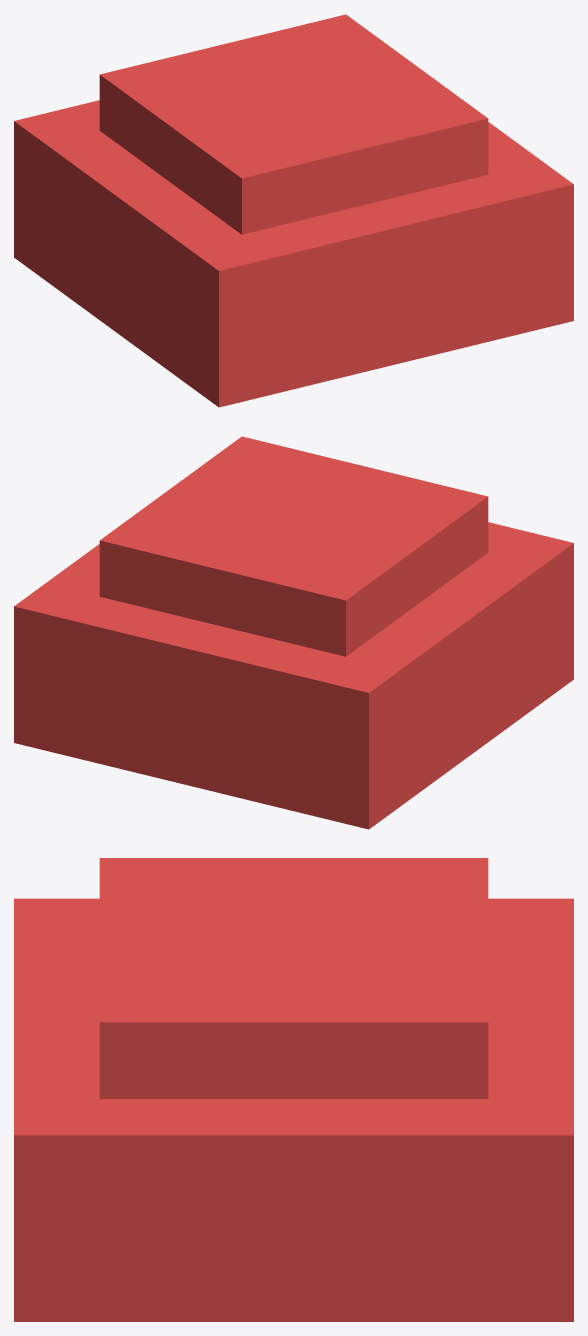
File: Lego_Part_16.fbx
The picture shows the model from 3 angles, top to bottom: view 1: azimuth 30°, elevation 25°; view 2: azimuth 150°, elevation 25°; view 3: azimuth 270°, elevation 25°; orthographic projection. The views are drawn at different scales.
Parts seen in each view (by area): view 1: Lego_Part_16; view 2: Lego_Part_16; view 3: Lego_Part_16.
Part boxes in pixels (x1,y1,x2,y2): Lego_Part_16: [14, 14, 573, 407]; Lego_Part_16: [14, 436, 573, 829]; Lego_Part_16: [14, 858, 573, 1321].
Bounding box in the file's own units: 2.08 × 1.08 × 2.08.
Materials: 1 (1 with a texture image).
